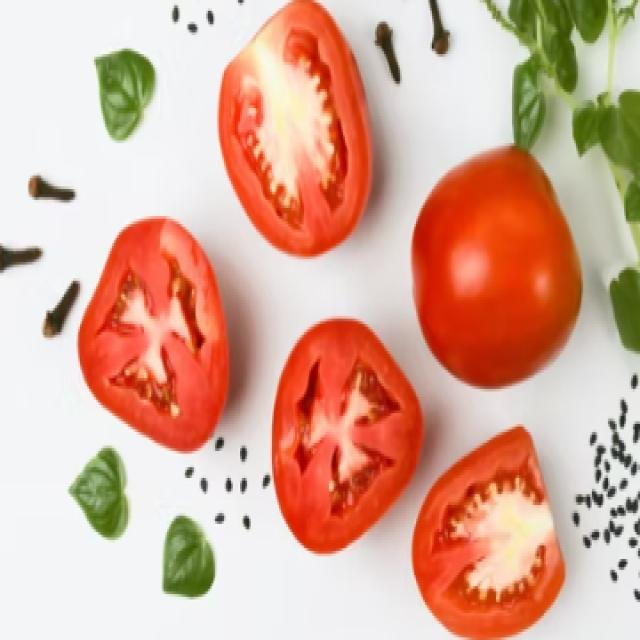Tomato: (261, 298, 427, 573), (70, 212, 236, 482), (210, 16, 377, 254), (402, 420, 571, 640)
